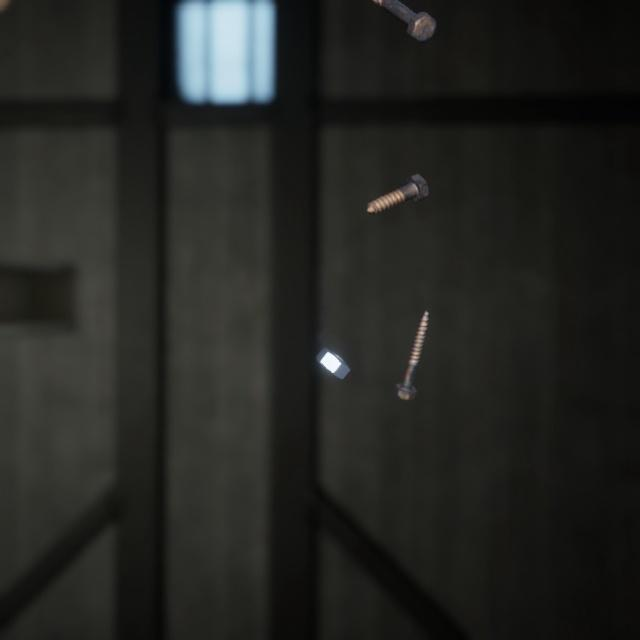bolt: (389, 288, 433, 387), (362, 155, 433, 205), (375, 0, 441, 41)
nut: (313, 323, 356, 365)
